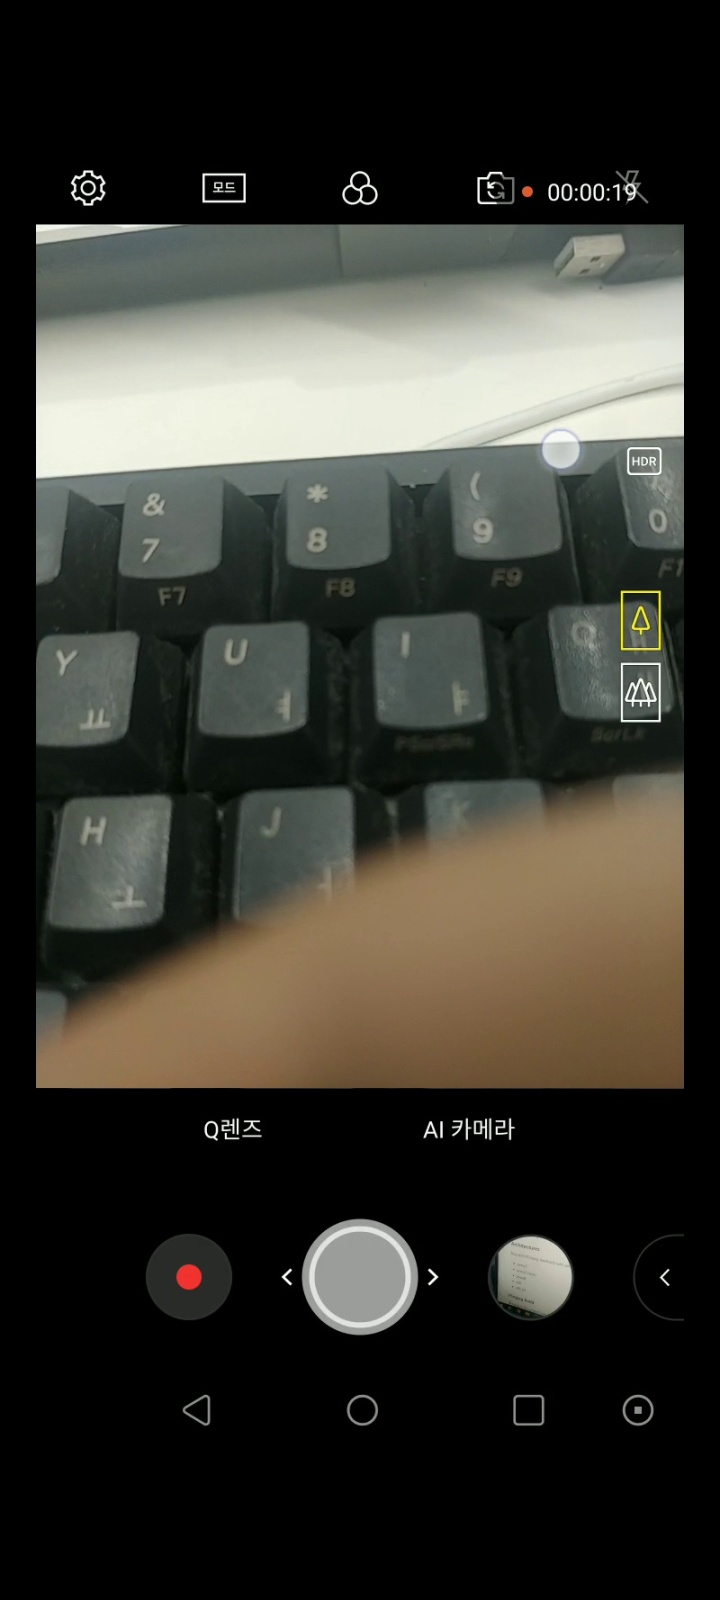Cursor: (539, 427, 584, 472)
